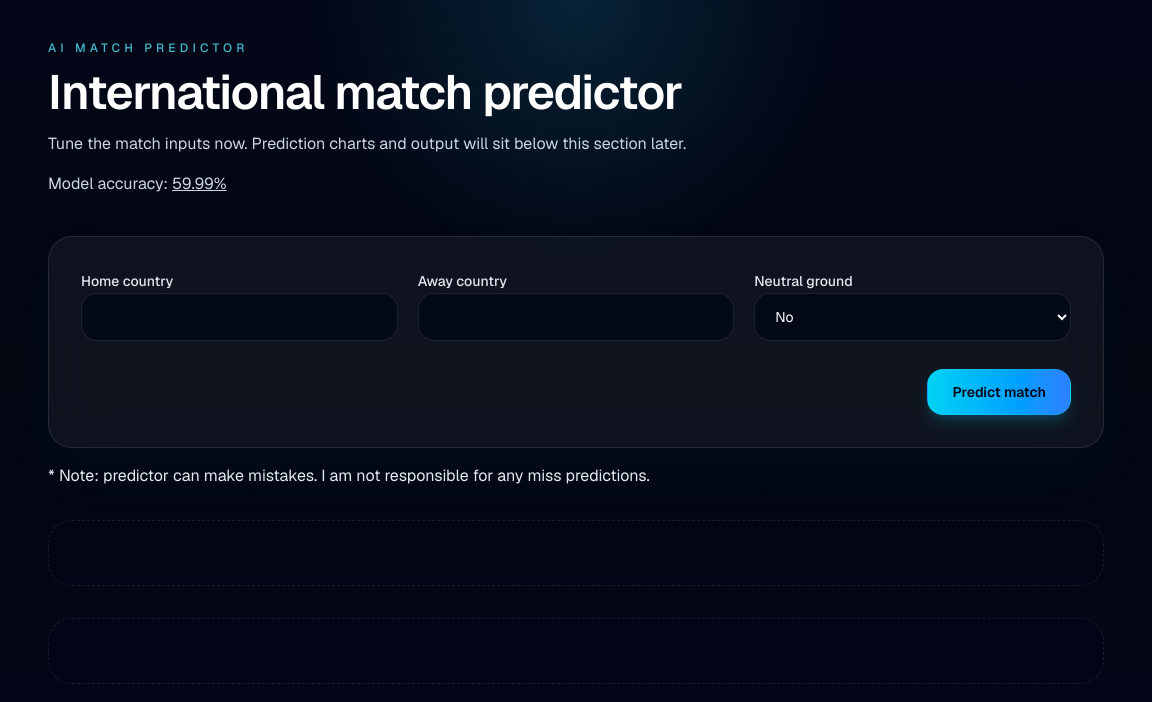
Scenario: Output data and explanations test › Charts load
The image size is (1152, 702).
Type "Argentina" into the field labelled "Home country".
click(239, 317); type("Argentina")  # box [81,293,398,341]
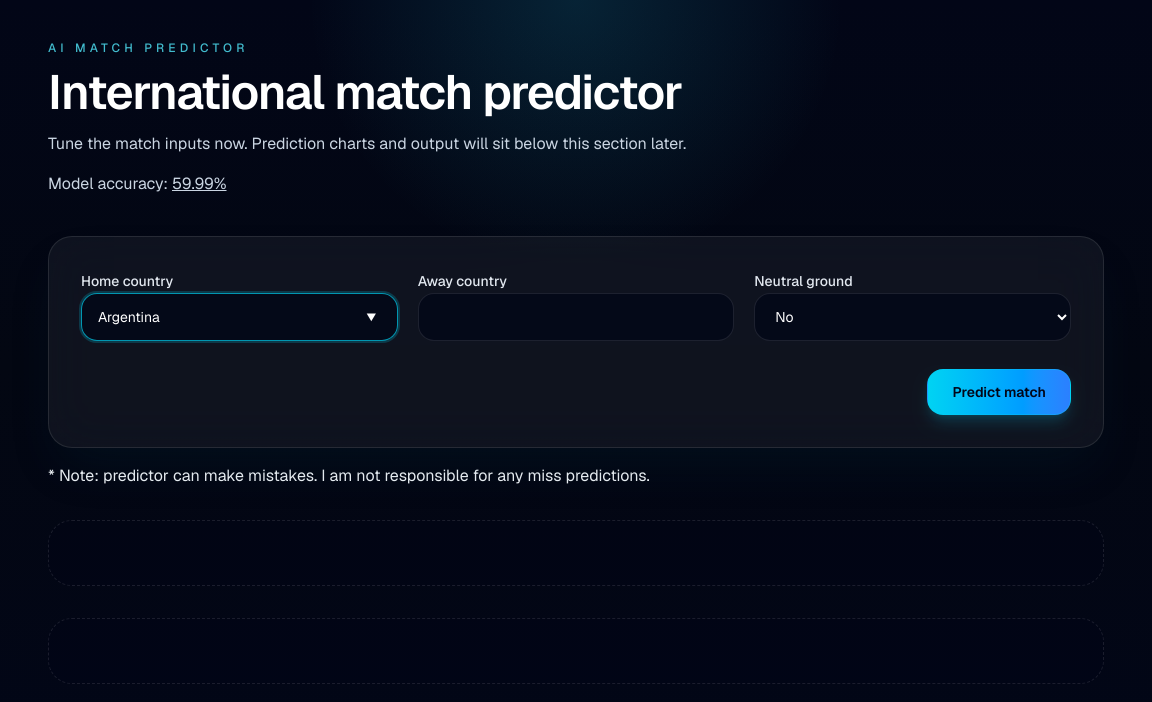
Type "Brazil" into the field labelled "Away country".
click(576, 317); type("Brazil")  # box [418,293,734,341]
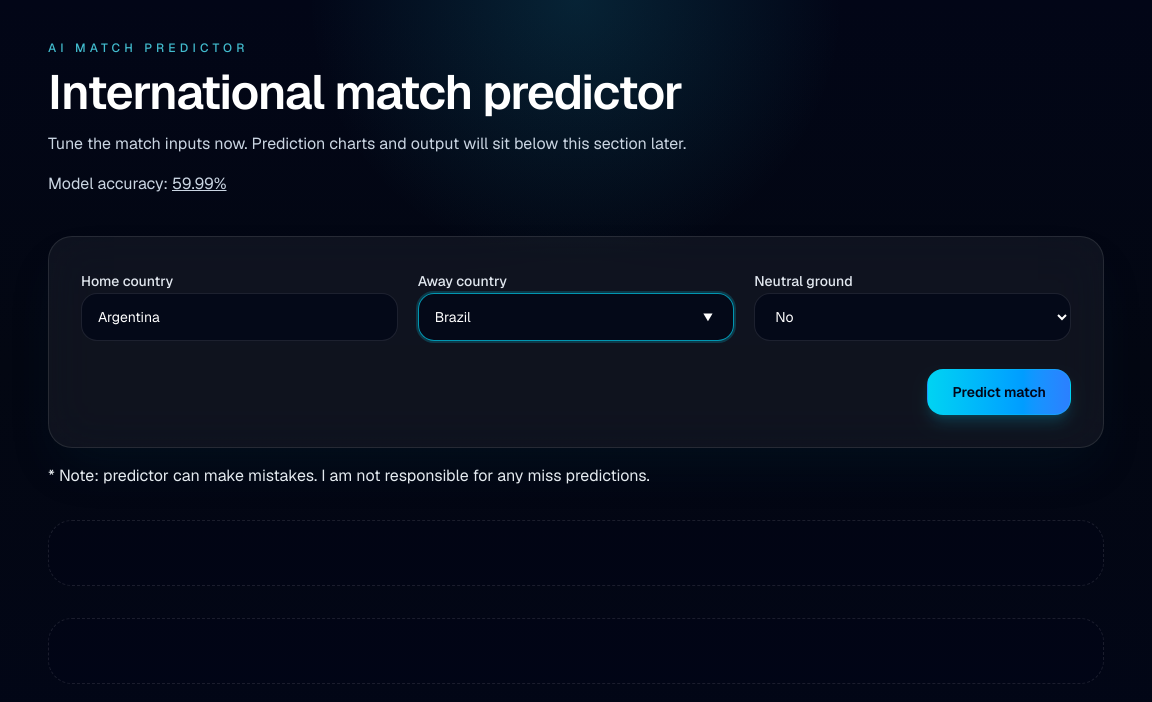
Select "Yes" in the dropdown labelled "Neutral ground" at [913, 317], box [754,293,1071,341]
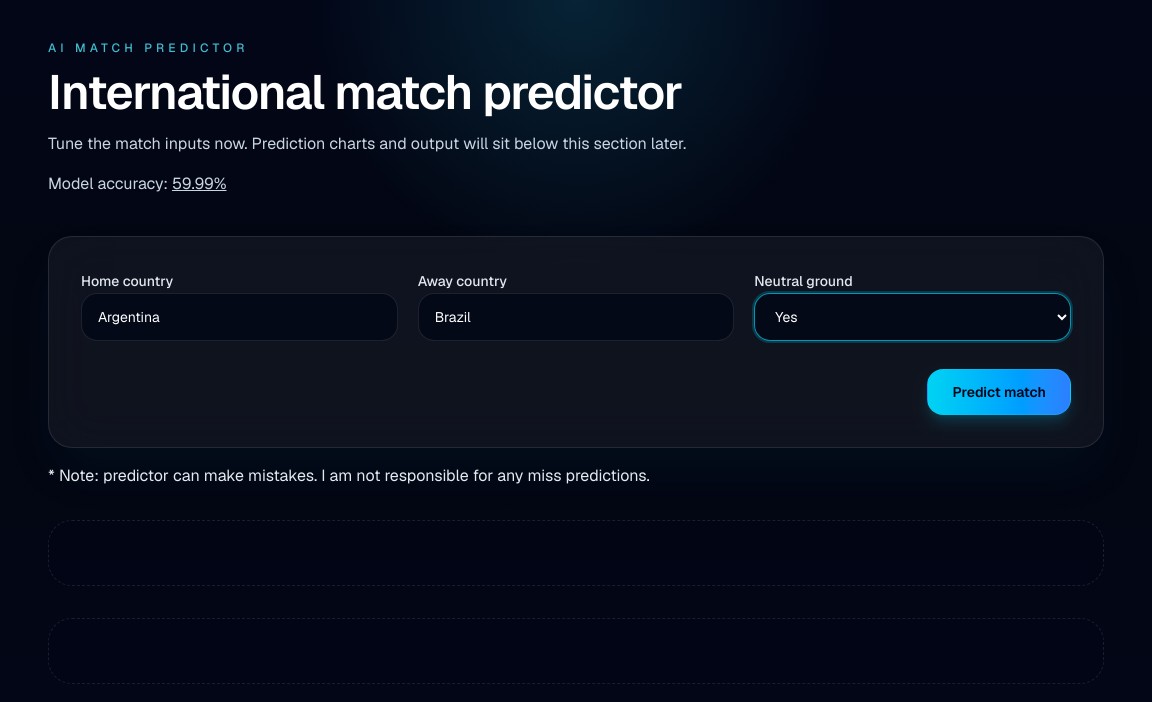
Click the button "Predict match".
click(999, 392)  # box [927,369,1071,415]
(page scrolled)
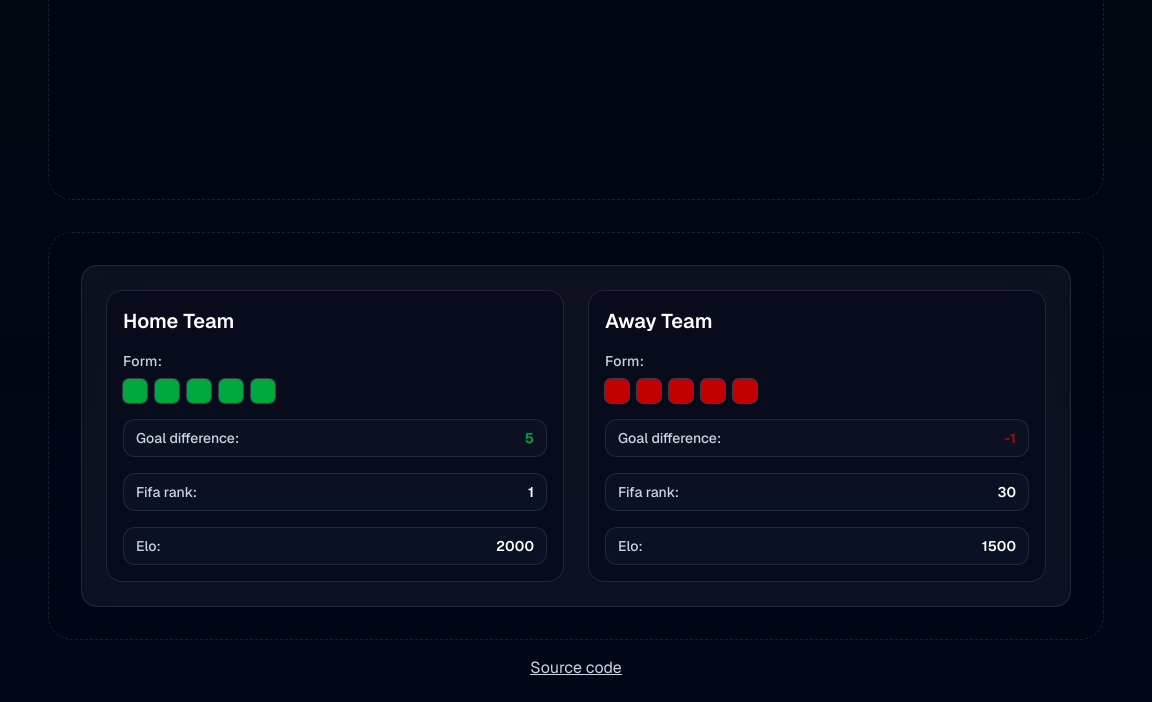
Now the element showing "Home Team Form: Goal difference: 5 Fifa rank: 1 Elo: 2000" is shown, box [106,290,564,582]
Now the element showing "Away Team Form: Goal difference: -1 Fifa rank: 30 Elo: 1500" is shown, box [588,290,1046,582]
